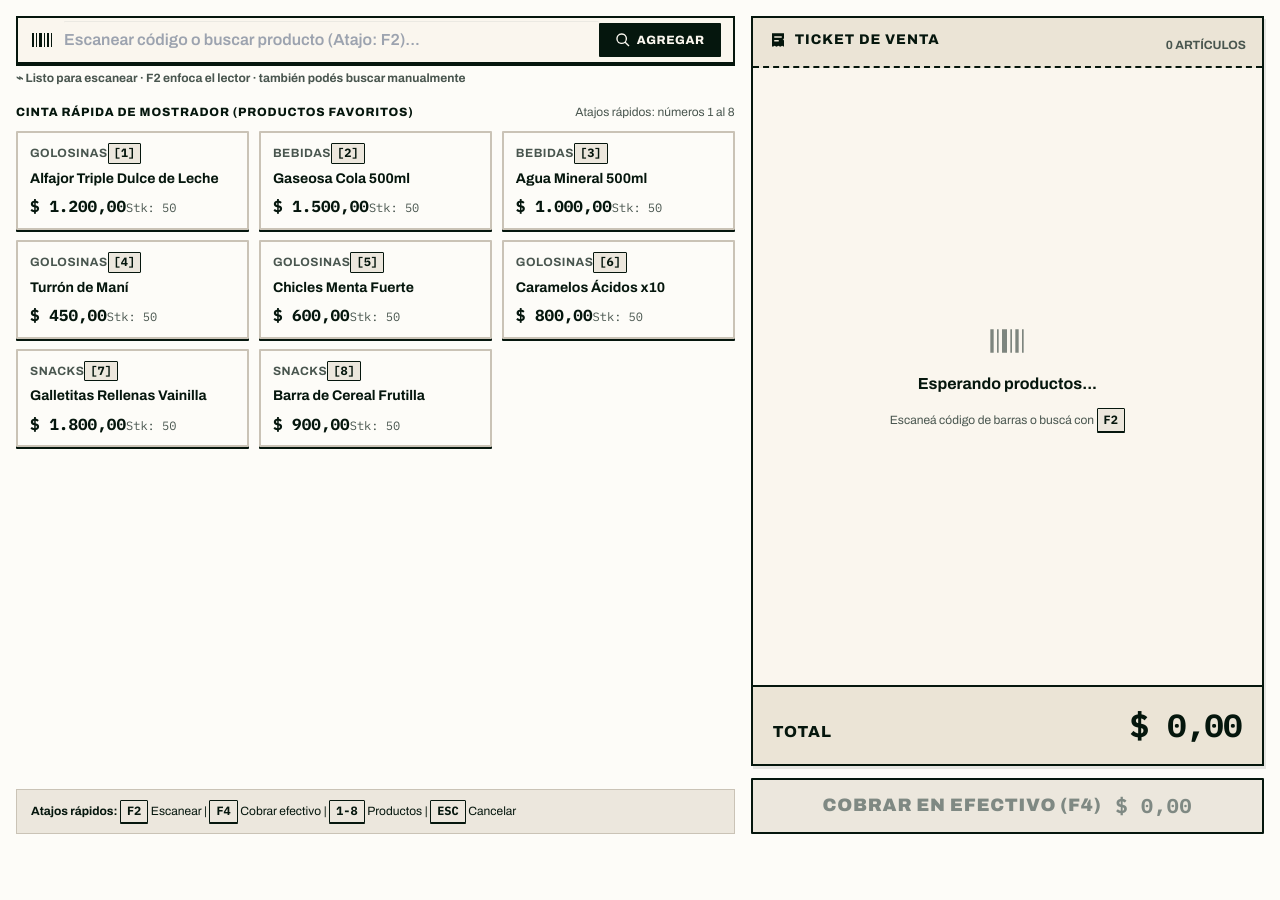
Test: SalesScreen Operational Flow › adds product from quick ribbon, updates live receipt and total
// Click "Turrón de Maní" on quick products ribbon
Click the text "Turrón de Maní" at x=79, y=287, box [30,279,129,296]
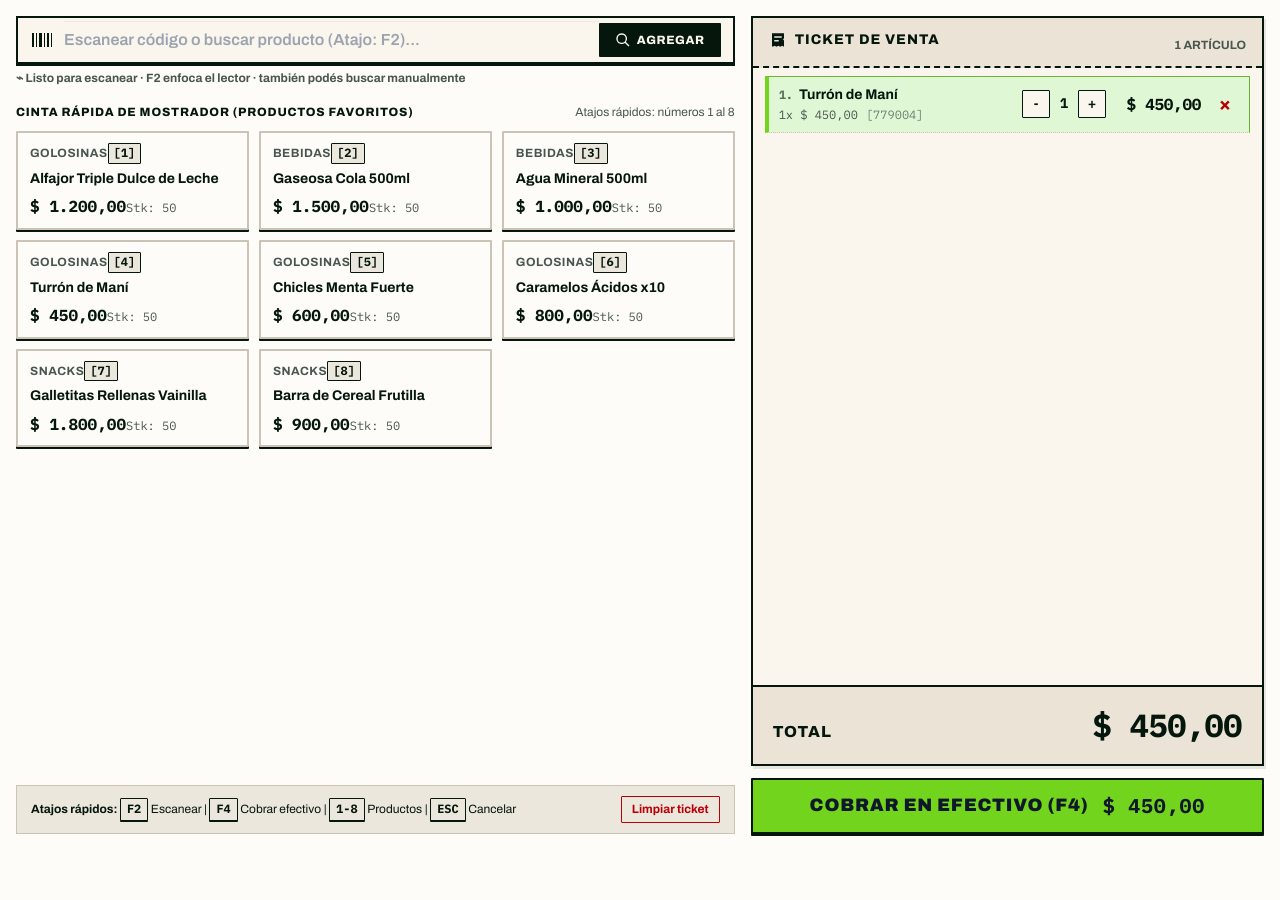
Expected: the text "Turrón de Maní" is shown 2 times, [30,279,129,296]; [799,87,898,102]
